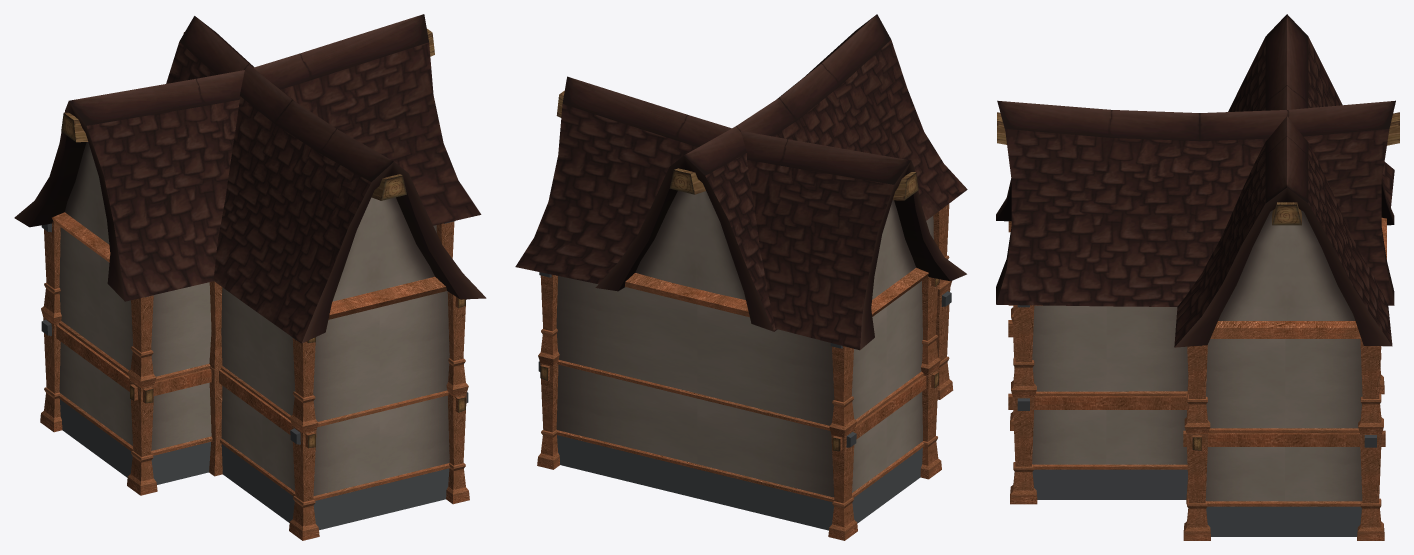
The model's file is fanasty_mod_S2_T_house.fbx.
The picture shows the model from 3 angles, left to right: view 1: azimuth 30°, elevation 25°; view 2: azimuth 150°, elevation 25°; view 3: azimuth 270°, elevation 25°; orthographic projection. The views are drawn at different scales.
Parts seen in each view (by area): view 1: s2_T_house; view 2: s2_T_house; view 3: s2_T_house.
Boxes of the visible parts, x1=… form: s2_T_house: x1=14, y1=14, x2=486, y2=540; s2_T_house: x1=515, y1=14, x2=967, y2=540; s2_T_house: x1=996, y1=14, x2=1399, y2=540.
Size of the model in its own units: 12.96 by 12.52 by 12.6.
